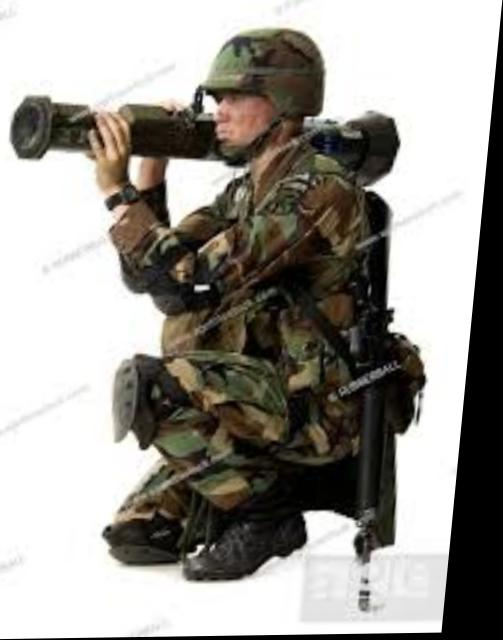other: (118, 29, 441, 576)
